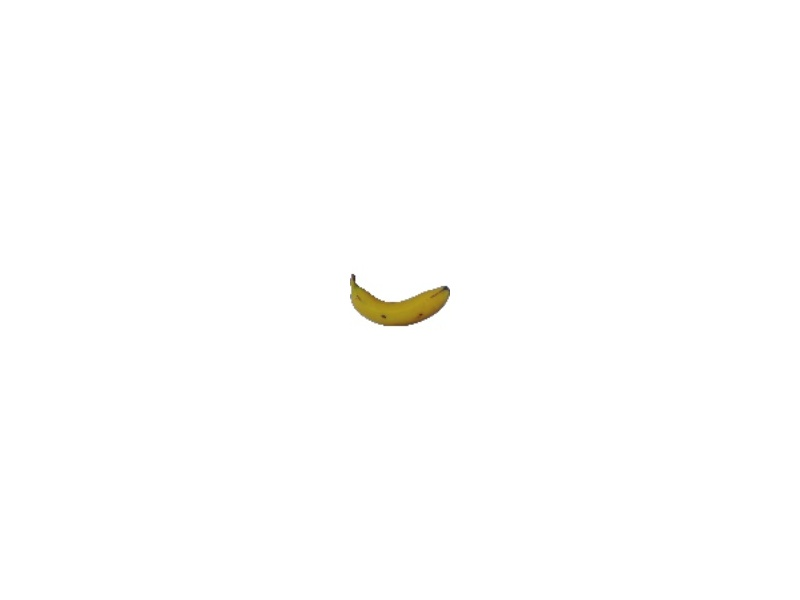banana: (347, 271, 452, 328)
